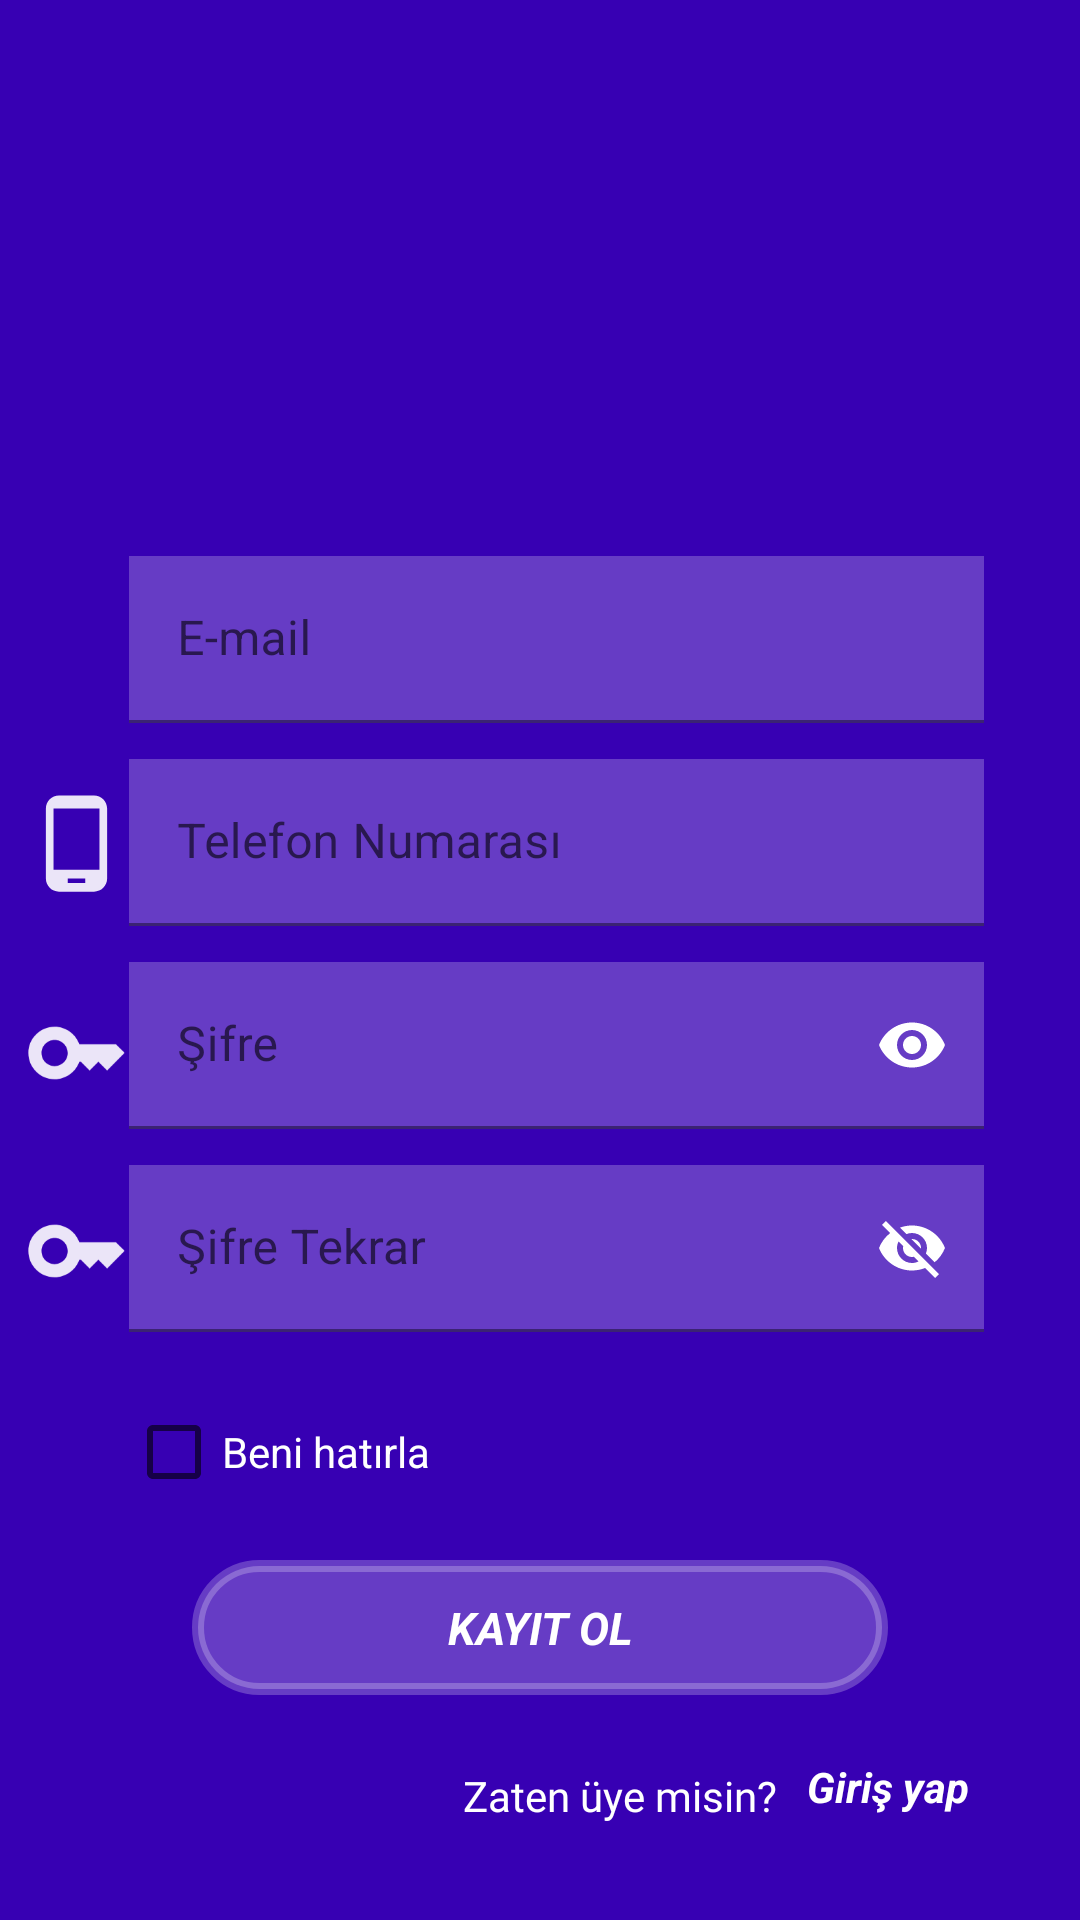

Named icons in this screenshot (1080 x 1920) and their bounding boxes, [x1=x1, y1=y1, x2=x2, y2=y2]:
key: [x1=28, y1=1026, x2=125, y2=1080], [x1=28, y1=1224, x2=125, y2=1278]
phone: [x1=45, y1=795, x2=108, y2=892]
